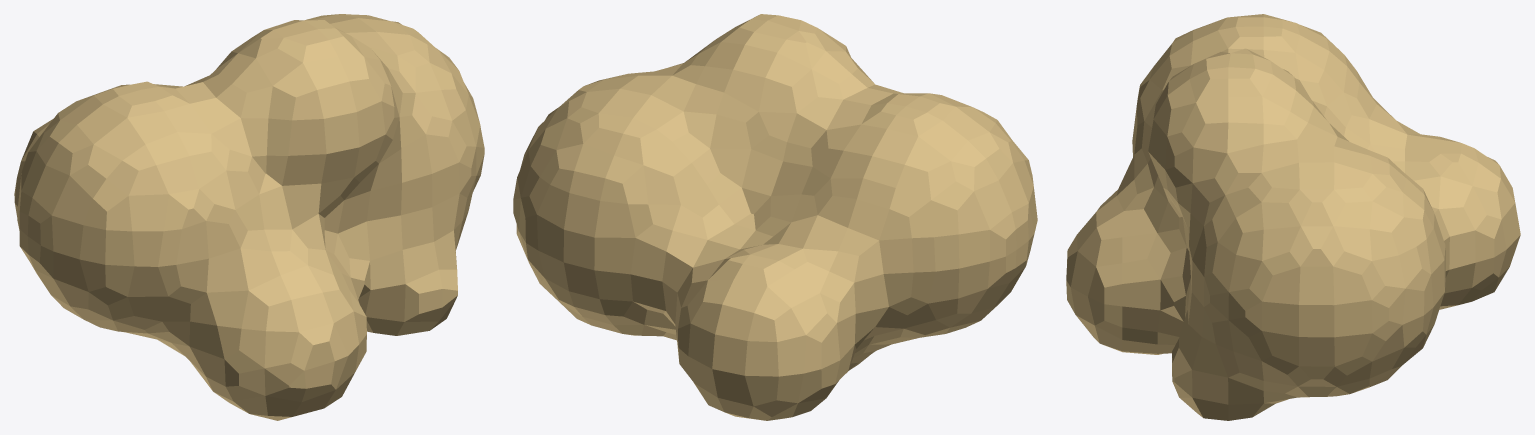
The model's file is Smokefbx.fbx.
The picture shows the model from 3 angles, left to right: view 1: azimuth 30°, elevation 25°; view 2: azimuth 150°, elevation 25°; view 3: azimuth 270°, elevation 25°; orthographic projection. The views are drawn at different scales.
Parts seen in each view (by area): view 1: Sphere.002; view 2: Sphere.002; view 3: Sphere.002.
Boxes of the visible parts, x1,y1,x2,y2 form: Sphere.002: (14,14,484,420); Sphere.002: (513,14,1037,420); Sphere.002: (1066,14,1520,420).
Size of the model in its own units: 115 by 79.93 by 101.
